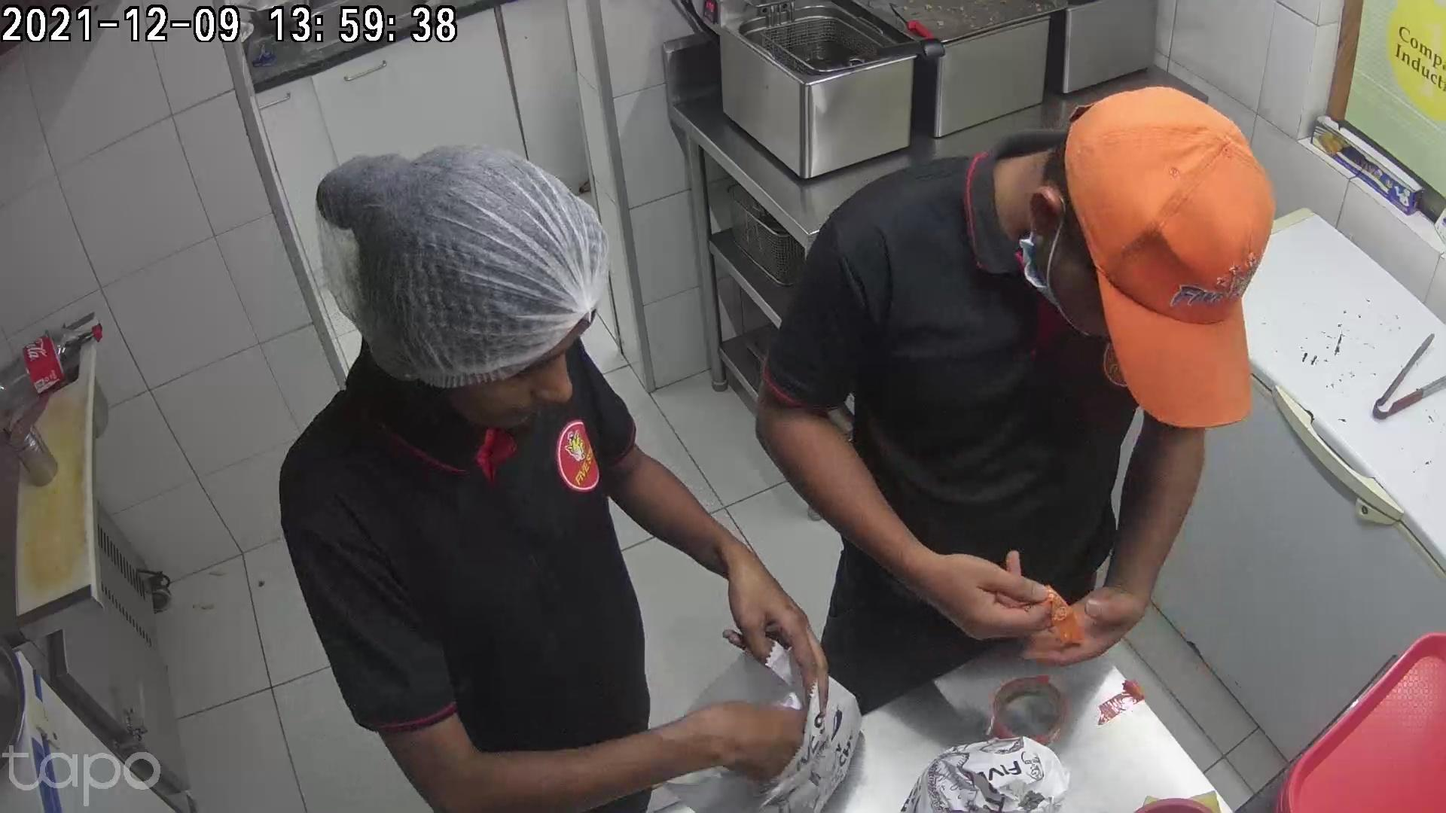no_gloves: (896, 554, 1047, 635)
